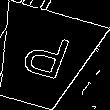P_S: (13, 29, 72, 88)
